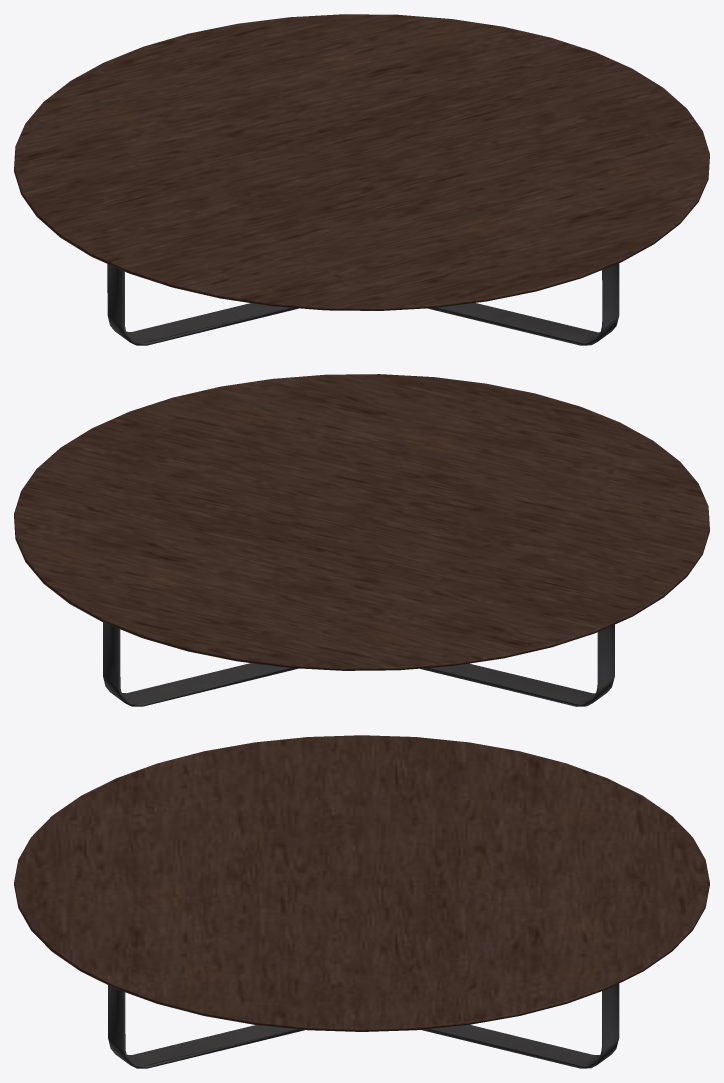
The model's file is table-12.glb.
The picture shows the model from 3 angles, top to bottom: view 1: azimuth 30°, elevation 25°; view 2: azimuth 150°, elevation 25°; view 3: azimuth 270°, elevation 25°; orthographic projection.
Parts seen in each view (by area): view 1: Cylinder005; view 2: Cylinder005; view 3: Cylinder005.
Boxes of the visible parts, x1,y1,x2,y2 form: Cylinder005: (14,14,709,345); Cylinder005: (14,374,709,706); Cylinder005: (14,735,709,1068).
Size of the model in its own units: 12.59 by 2.51 by 12.59.
Materials: 1 (1 with a texture image).
